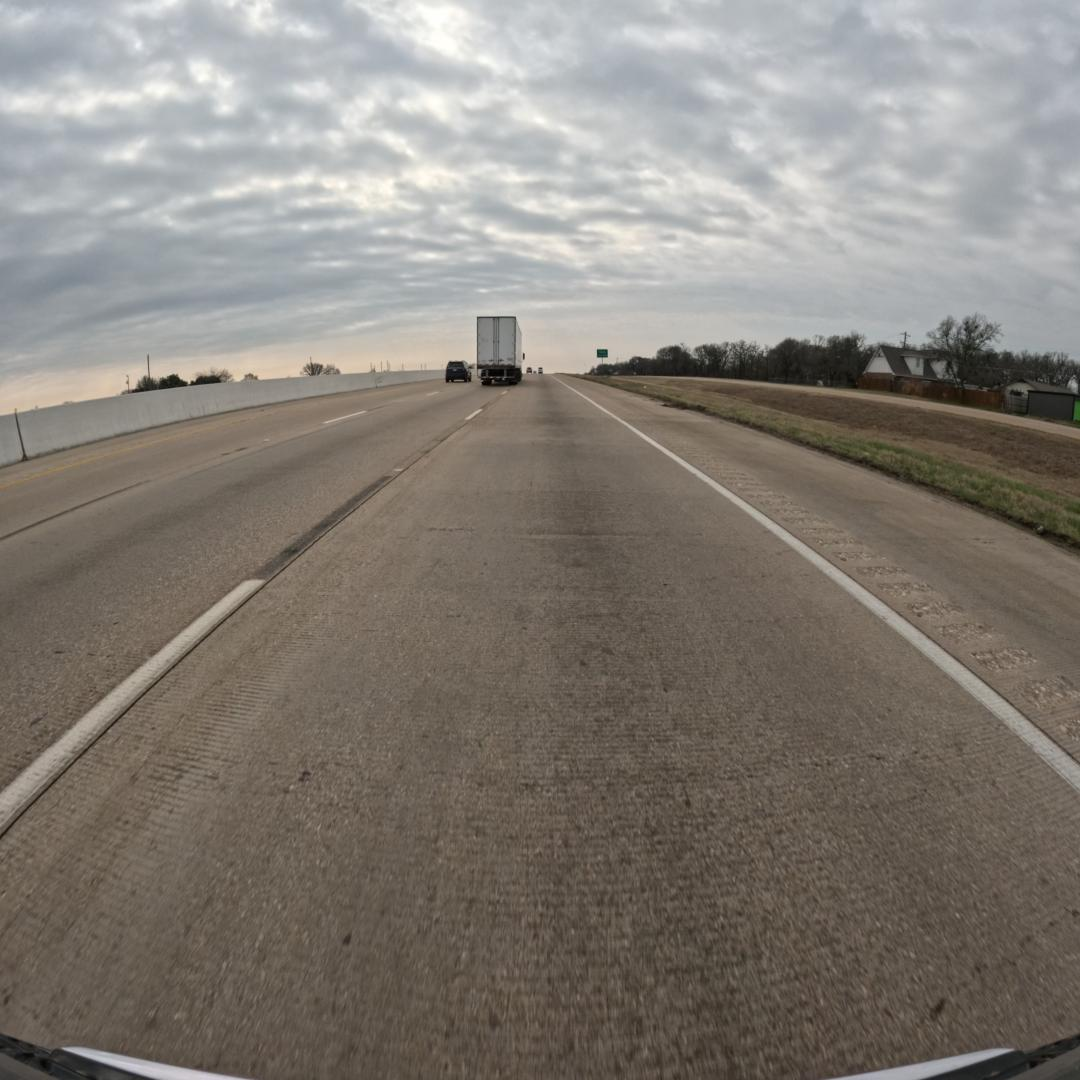lane0: (0, 377, 1080, 1077)
lane1: (0, 390, 475, 828)
